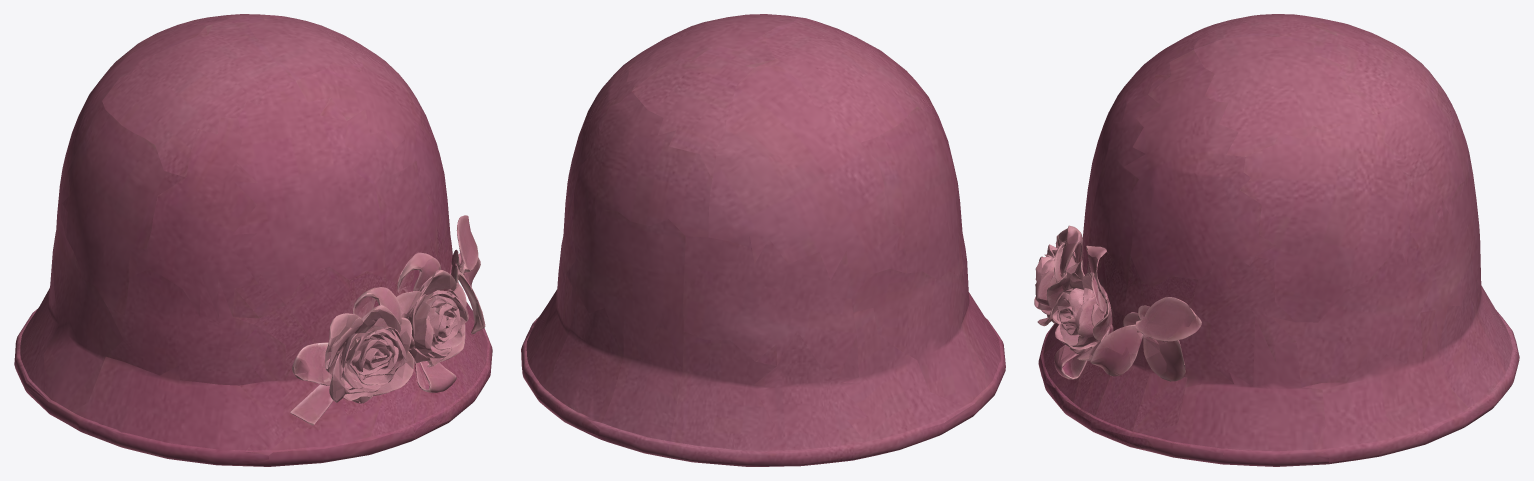
File: mk_cloche.glb
The picture shows the model from 3 angles, left to right: view 1: azimuth 30°, elevation 25°; view 2: azimuth 150°, elevation 25°; view 3: azimuth 270°, elevation 25°; orthographic projection.
Size of the model in its own units: 1.9 by 1.45 by 1.9.
Materials: 1 (1 with a texture image).
